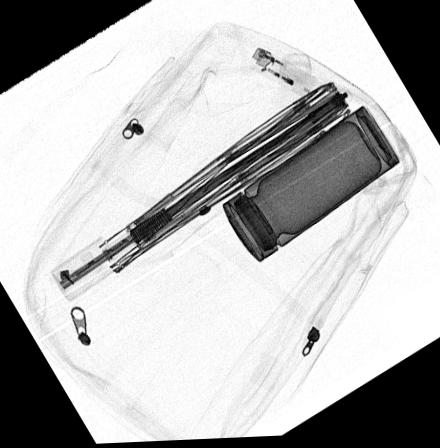Lighter: (246, 48, 316, 101)
